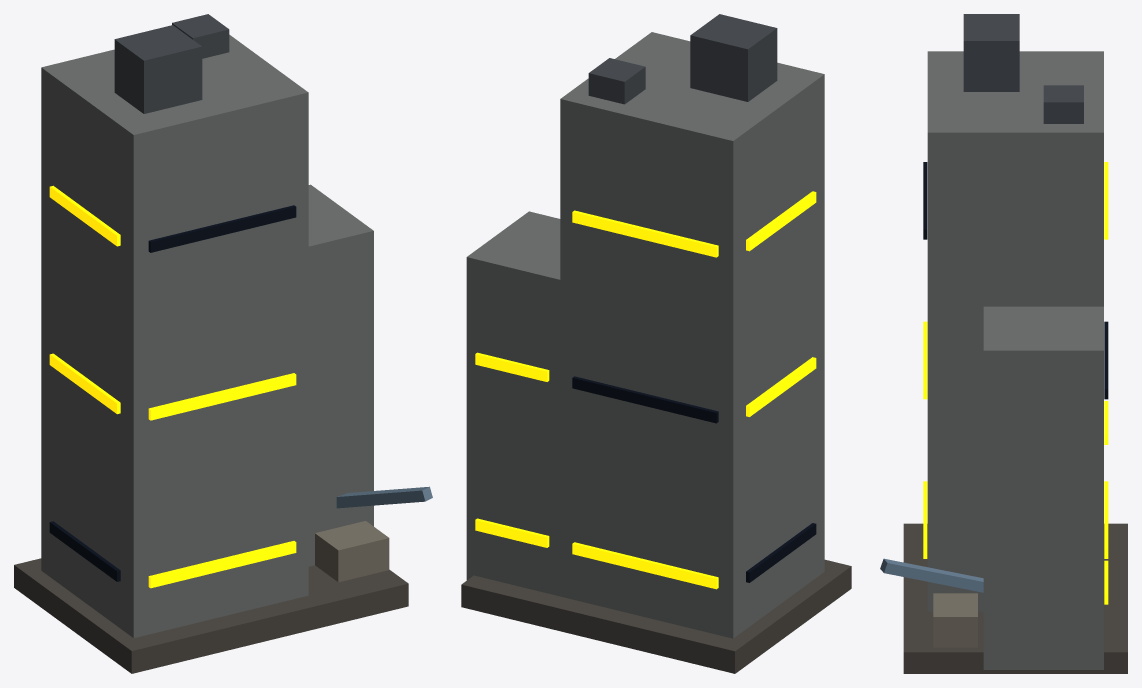
The model's file is highrise_c_low.glb.
The picture shows the model from 3 angles, left to right: view 1: azimuth 30°, elevation 25°; view 2: azimuth 150°, elevation 25°; view 3: azimuth 270°, elevation 25°; orthographic projection. The views are drawn at different scales.
Parts seen in each view (by area): view 1: Main block, Wing, Plinth, Roof plant, Collapse debris, Window strip, Window strip.001, Window strip.002, Roof stub, Fallen beam, Window strip.006, Window strip.007 (+1 smaller); view 2: Main block, Wing, Plinth, Roof plant, Roof stub, Window strip.003, Window strip.005, Window strip.004, Window strip.007, Window strip.006, Window strip.008, Window strip.009 (+1 smaller); view 3: Main block, Wing, Plinth, Roof plant, Collapse debris, Roof stub, Fallen beam, Window strip.001, Window strip.004, Window strip, Window strip.002, Window strip.003 (+1 smaller).
Boxes of the visible parts, left/top/right/bottom form: Main block: left=41, top=34, right=308, bottom=637; Wing: left=308, top=184, right=373, bottom=566; Plinth: left=14, top=558, right=408, bottom=673; Roof plant: left=114, top=25, right=202, bottom=113; Collapse debris: left=315, top=521, right=389, bottom=582; Window strip: left=148, top=541, right=296, bottom=588; Window strip.001: left=148, top=373, right=296, bottom=420; Window strip.002: left=148, top=205, right=296, bottom=252; Roof stub: left=172, top=14, right=229, bottom=58; Fallen beam: left=336, top=486, right=432, bottom=508; Window strip.006: left=49, top=521, right=120, bottom=581; Window strip.007: left=49, top=353, right=120, bottom=414; Main block: left=560, top=32, right=824, bottom=638; Wing: left=466, top=211, right=560, bottom=596; Plinth: left=461, top=559, right=851, bottom=673; Roof plant: left=690, top=14, right=777, bottom=101; Roof stub: left=588, top=58, right=645, bottom=104; Window strip.003: left=572, top=542, right=718, bottom=589; Window strip.005: left=572, top=210, right=718, bottom=257; Window strip.004: left=572, top=376, right=718, bottom=423; Window strip.007: left=746, top=357, right=816, bottom=416; Window strip.006: left=746, top=523, right=816, bottom=582; Window strip.008: left=746, top=191, right=816, bottom=251; Window strip.009: left=475, top=518, right=549, bottom=547; Main block: left=927, top=51, right=1103, bottom=611; Wing: left=983, top=306, right=1103, bottom=669; Plinth: left=903, top=523, right=1127, bottom=673; Roof plant: left=963, top=14, right=1019, bottom=91; Collapse debris: left=933, top=593, right=977, bottom=647; Roof stub: left=1043, top=85, right=1083, bottom=123; Fallen beam: left=880, top=558, right=983, bottom=592; Window strip.001: left=923, top=321, right=927, bottom=399; Window strip.004: left=1104, top=321, right=1108, bottom=399; Window strip: left=923, top=481, right=927, bottom=558; Window strip.002: left=923, top=162, right=927, bottom=239; Window strip.003: left=1104, top=481, right=1108, bottom=558.
Size of the model in its own units: 3.99 by 7.6 by 3.09.
